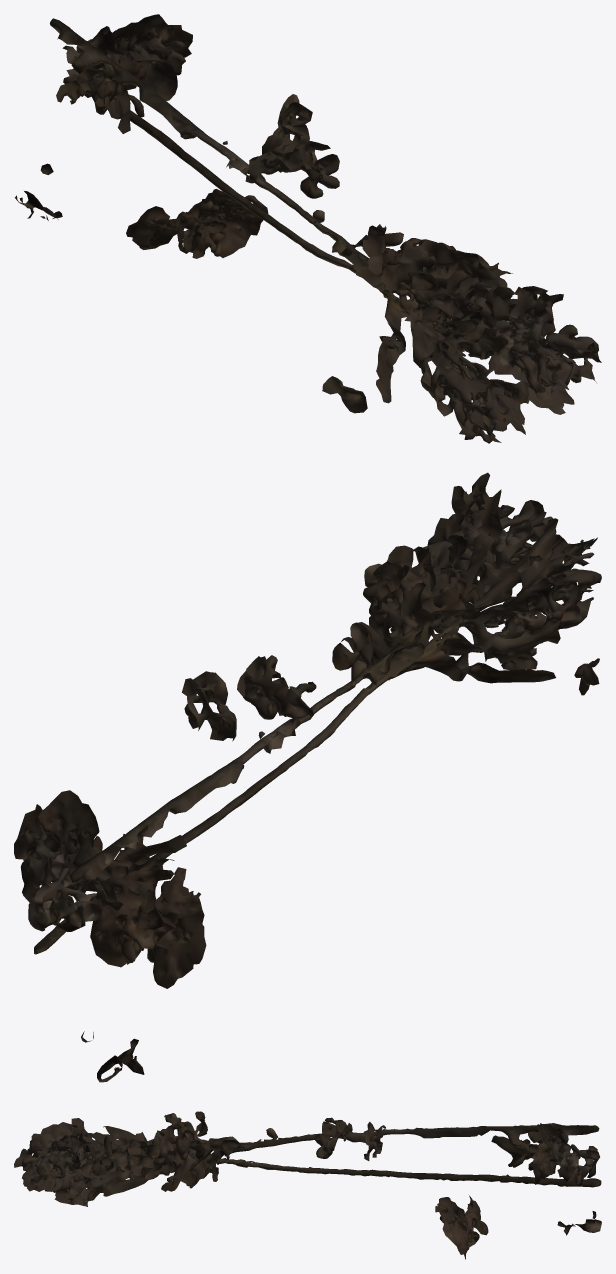
The model's file is tree_mesh.dae.
3 renders of one model, top to bottom at view 1: azimuth 30°, elevation 25°; view 2: azimuth 150°, elevation 25°; view 3: azimuth 270°, elevation 25°, orthographic. The views are drawn at different scales.
Parts seen in each view (by area): view 1: node0; view 2: node0; view 3: node0.
Part boxes in pixels (x1,y1,x2,y2): node0: (15,14,601,443); node0: (14,472,601,1082); node0: (14,1111,601,1259).
Bounding box in the file's own units: 7.49 × 7.58 × 28.82.
